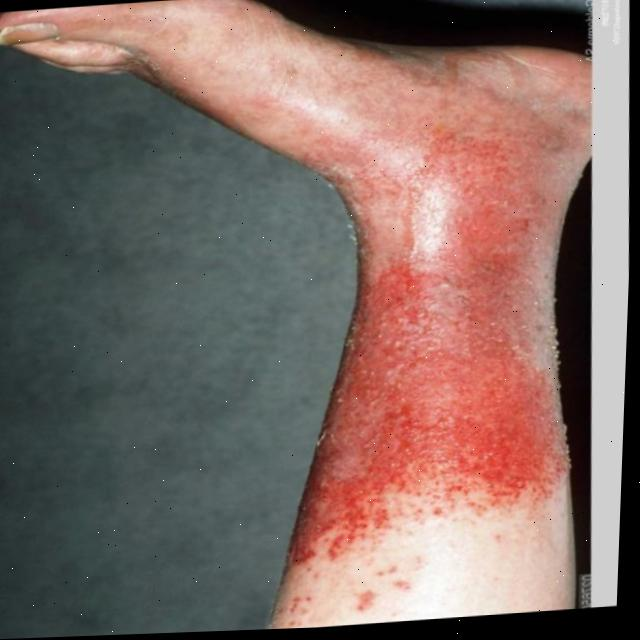Eczema: (330, 149, 526, 552)
